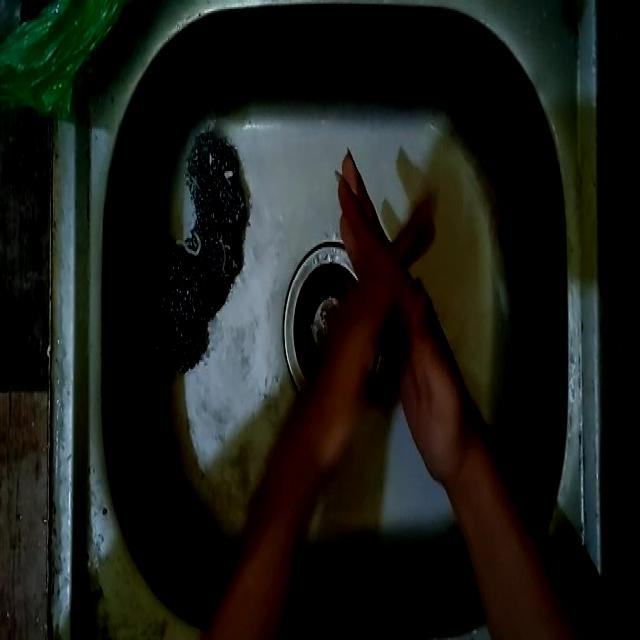step_3: (314, 132, 459, 491)
